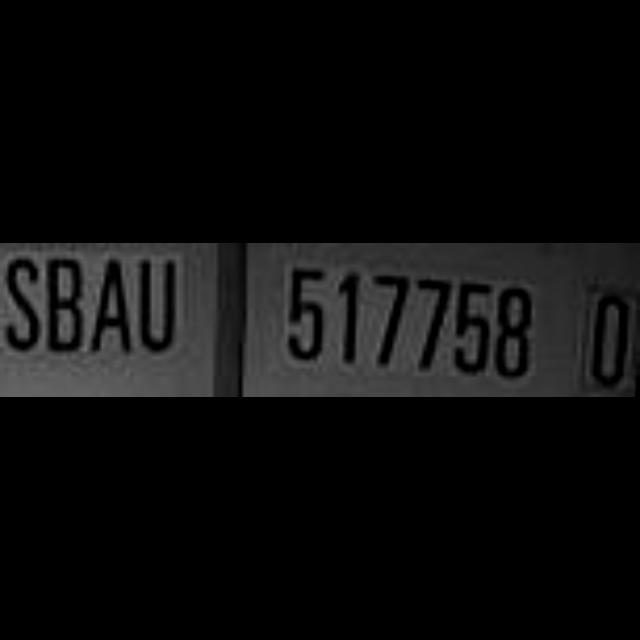0: (585, 294, 633, 392)
1: (334, 264, 364, 374)
5: (283, 260, 329, 370), (454, 276, 494, 378)
7: (368, 266, 412, 372), (414, 274, 454, 376)
8: (492, 281, 538, 385)
a: (85, 256, 138, 360)
b: (43, 252, 89, 361)
s: (1, 250, 44, 360)
u: (136, 254, 182, 358)
